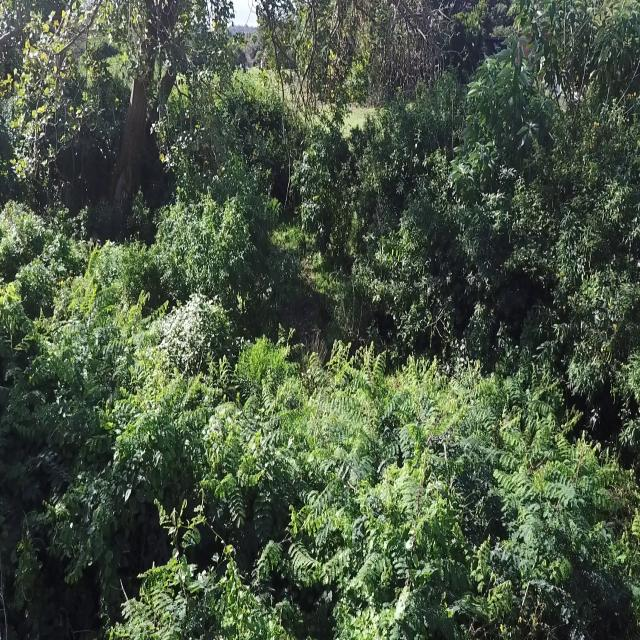Mysore-Thorn-Weed: (27, 333, 191, 567), (193, 393, 384, 580), (502, 356, 582, 574), (318, 348, 423, 461), (121, 506, 201, 640), (394, 413, 436, 640), (55, 264, 123, 378)
